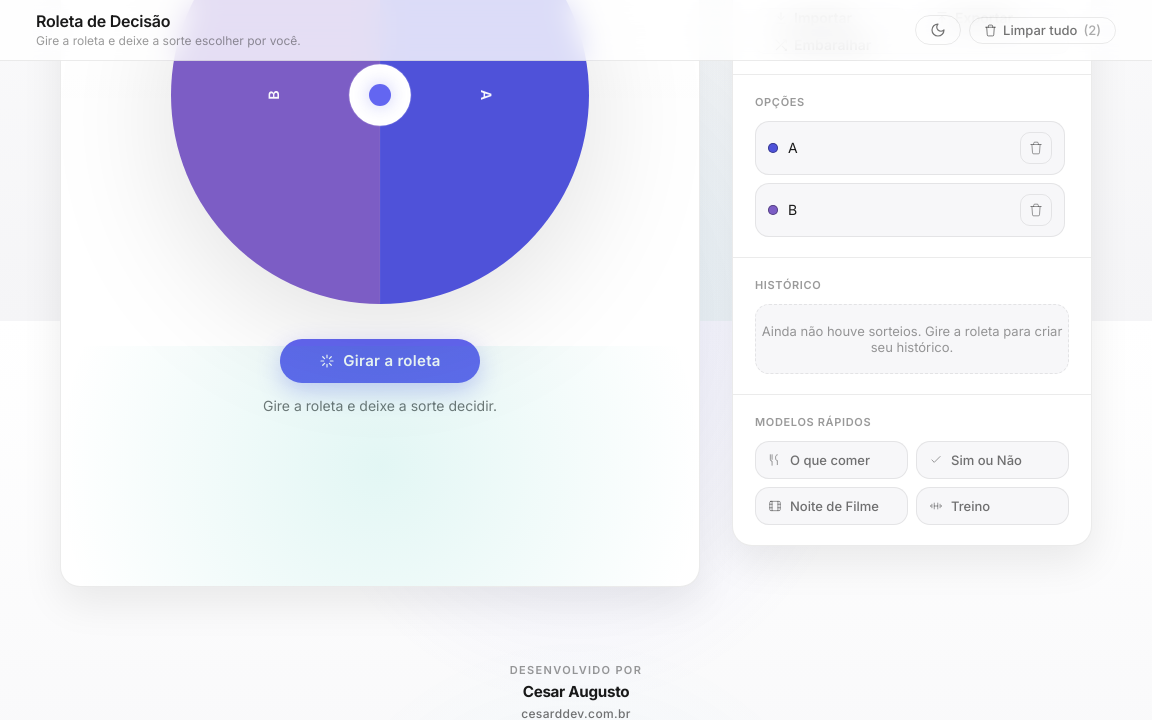
Test: App › gira a roleta e registra o resultado no histórico
(page scrolled)
Click the button "Girar a roleta". click: (380, 360)
box: [280,338,480,382]
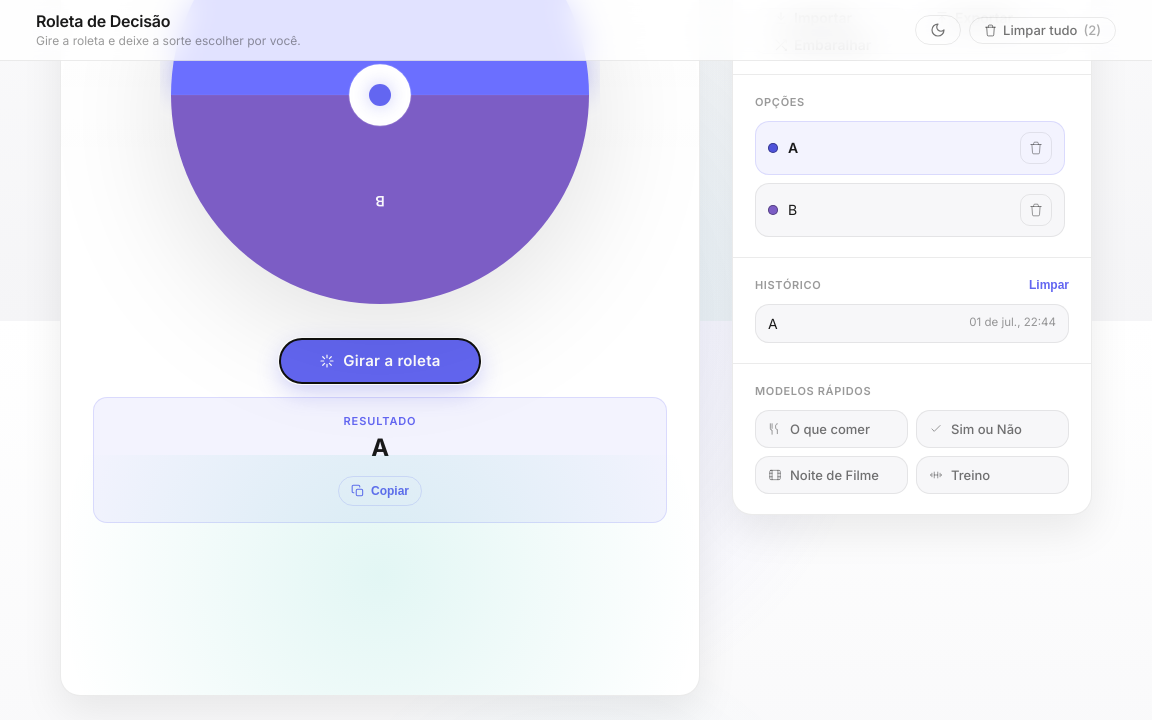
Expected: the text "A" below "Resultado" is shown, [371,432,389,462]
Expected: the text "Resultado" is shown, [344,414,416,428]
